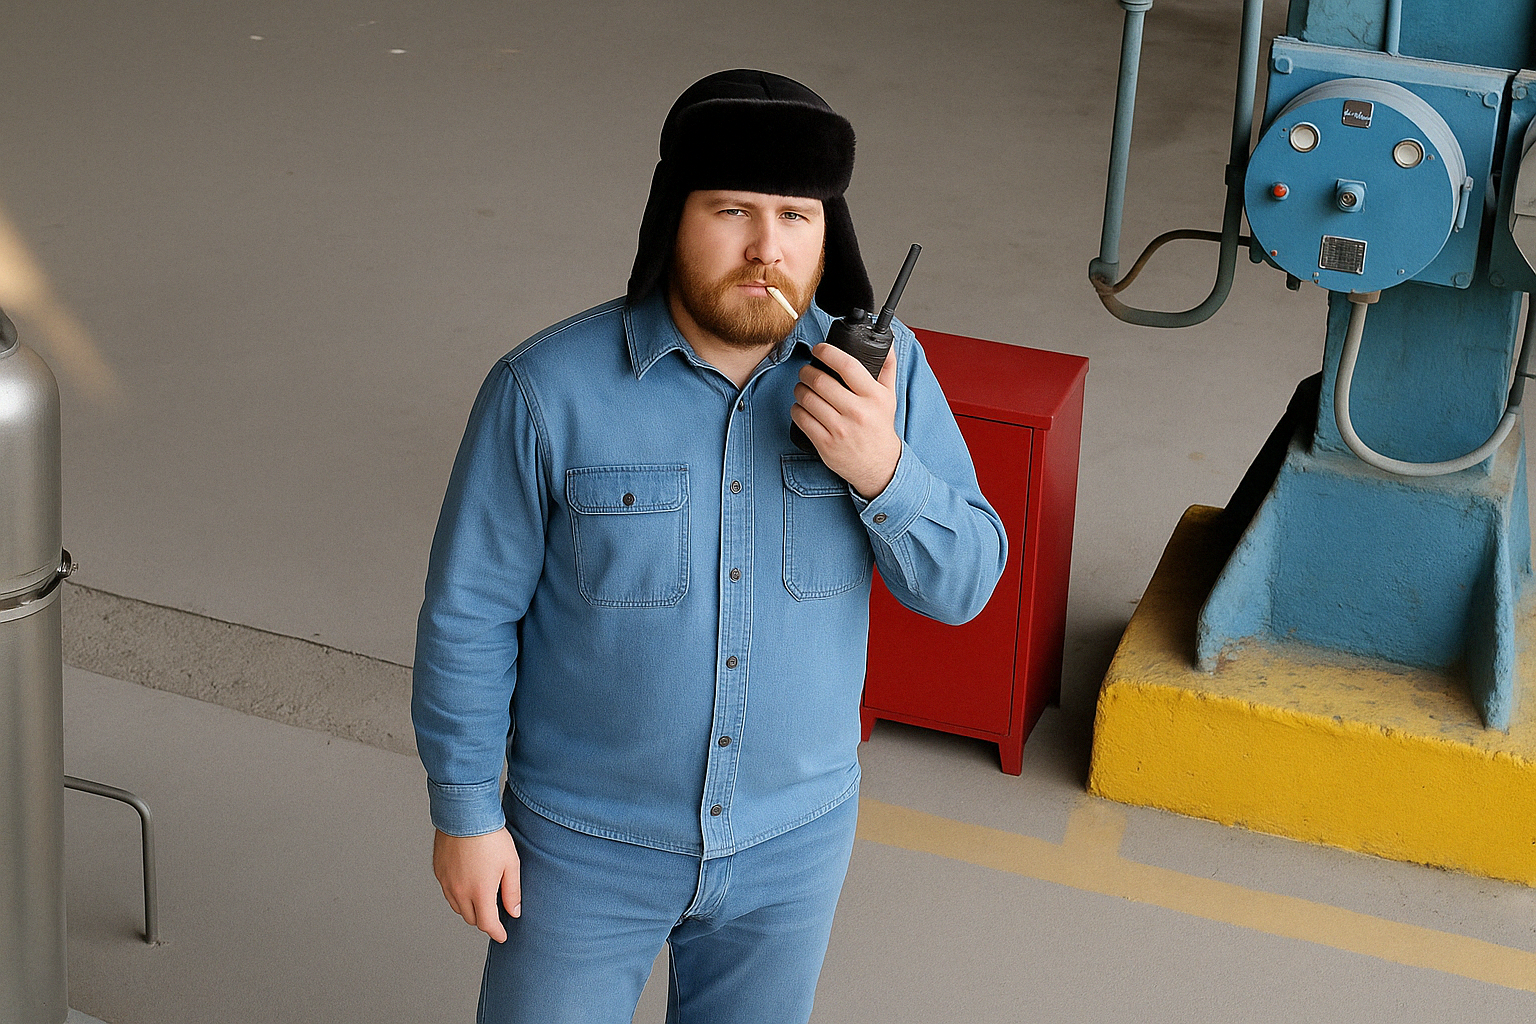smoking: (751, 269, 813, 331)
